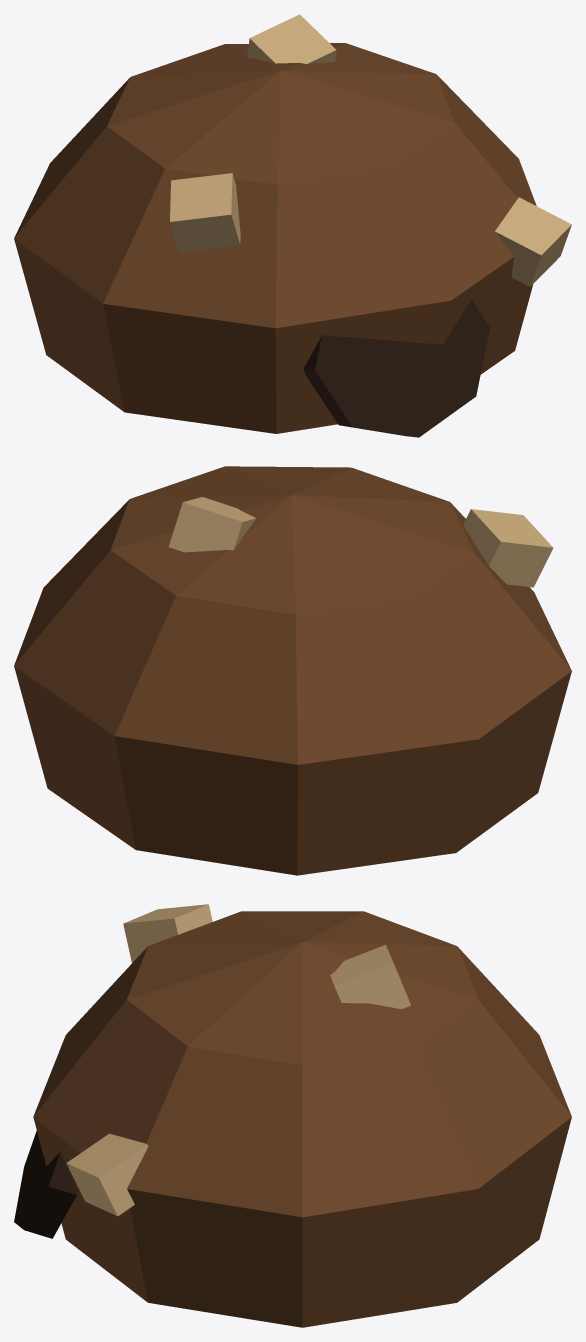
Rendered from env_r10_anthill.glb.
The picture shows the model from 3 angles, top to bottom: view 1: azimuth 30°, elevation 25°; view 2: azimuth 150°, elevation 25°; view 3: azimuth 270°, elevation 25°; orthographic projection. The views are drawn at different scales.
Parts seen in each view (by area): view 1: env_r10_anthill; view 2: env_r10_anthill; view 3: env_r10_anthill.
Boxes of the visible parts, <box> form: env_r10_anthill: <box>14,14,571,437</box>; env_r10_anthill: <box>14,466,571,875</box>; env_r10_anthill: <box>14,904,571,1327</box>.
Bounding box in the file's own units: 2.2 × 1.3 × 2.2.
1 material, 1 textured.
